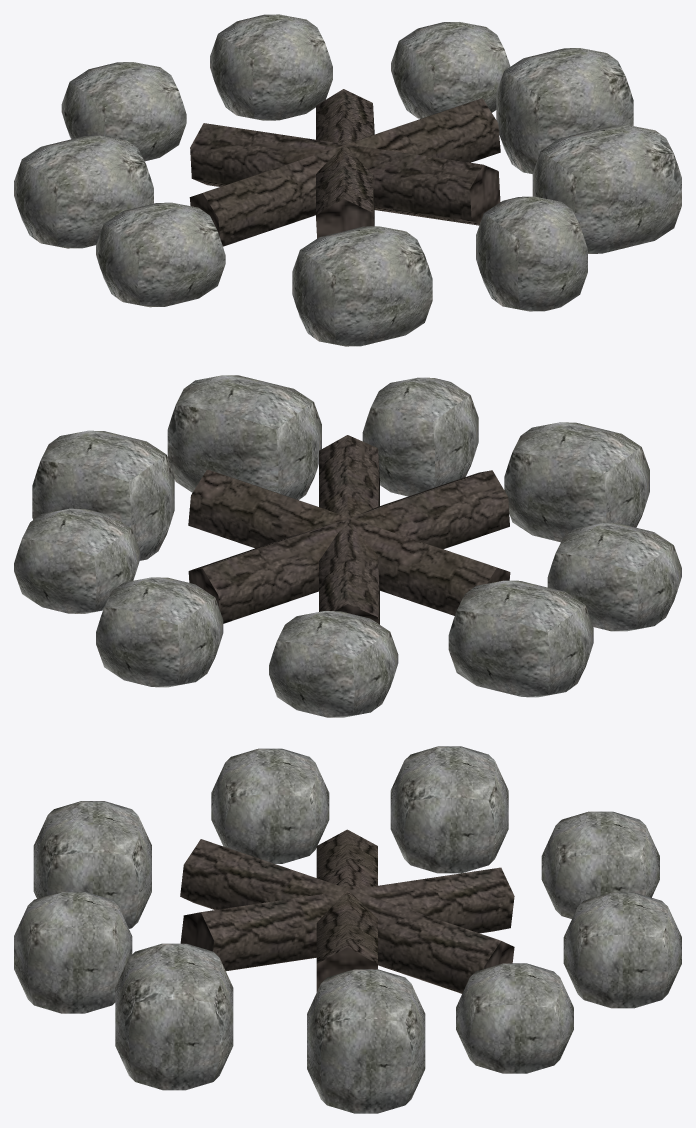
File: hearth.glb
The picture shows the model from 3 angles, top to bottom: view 1: azimuth 30°, elevation 25°; view 2: azimuth 150°, elevation 25°; view 3: azimuth 270°, elevation 25°; orthographic projection. The views are drawn at different scales.
Parts seen in each view (by area): view 1: prop; view 2: prop; view 3: prop.
Part boxes in pixels (left/top/right/bottom): prop: left=14, top=14, right=681, bottom=346; prop: left=14, top=375, right=681, bottom=717; prop: left=14, top=746, right=681, bottom=1113.
Size of the model in its own units: 0.8846 by 0.1673 by 0.8475.
2 materials, 2 textured.
